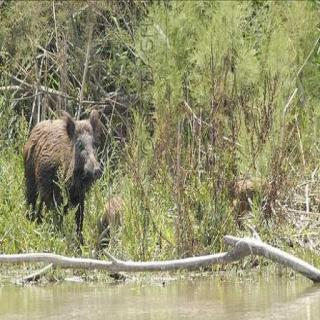Pig: (13, 101, 148, 272)
